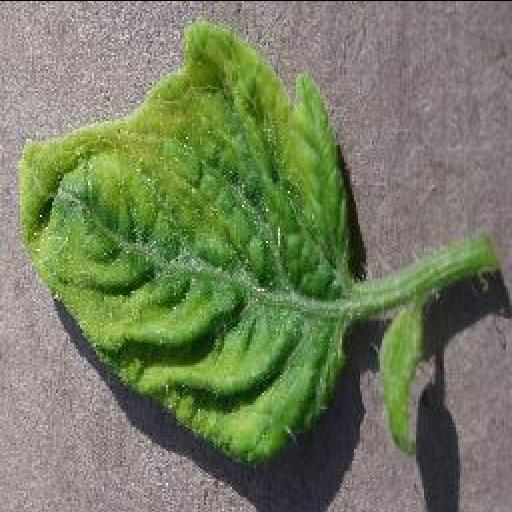disease_tomato: (20, 21, 354, 458)
